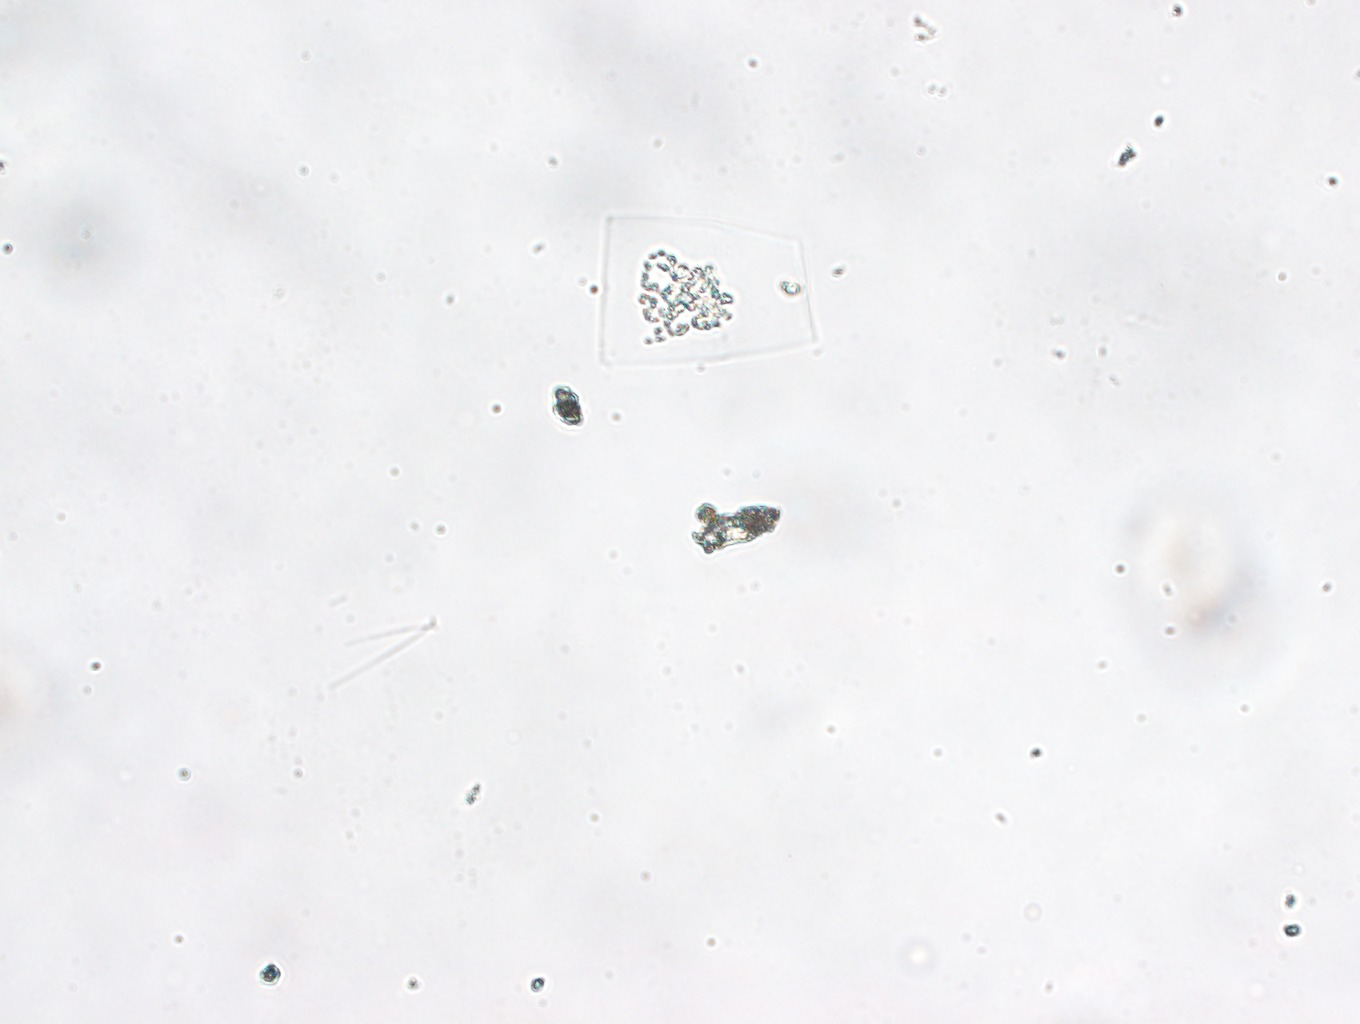helicotheca: (598, 214, 820, 373)
